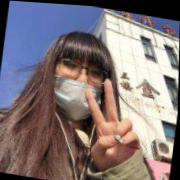WRONG: (49, 49, 109, 122)
